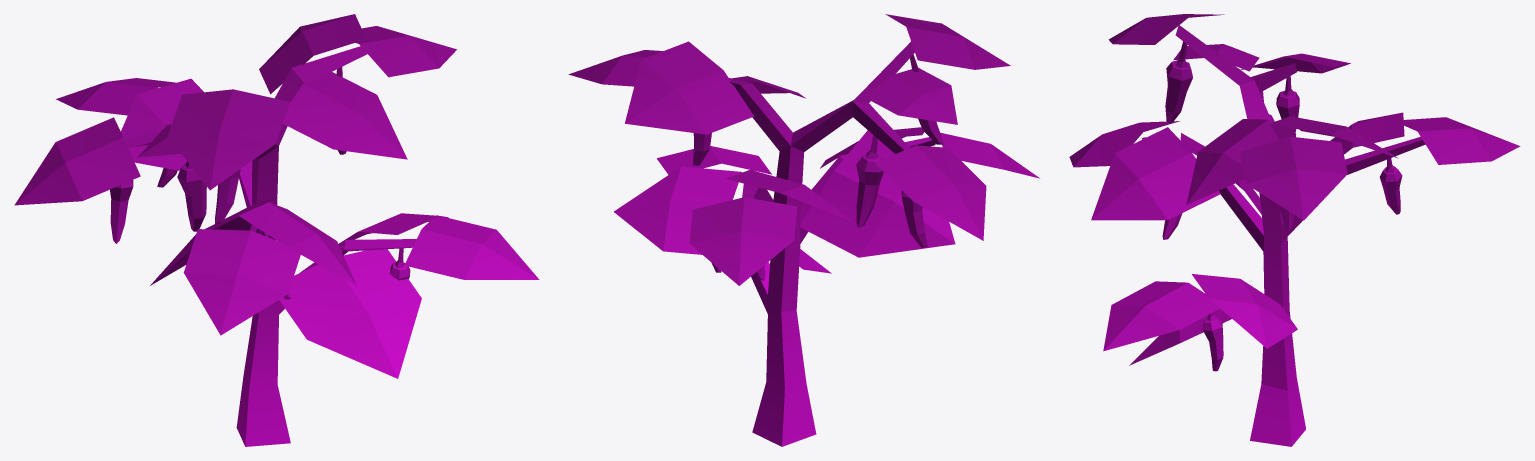
The model's file is SM_Prop_Plant_Bush_03_Chilli.fbx.
The picture shows the model from 3 angles, left to right: view 1: azimuth 30°, elevation 25°; view 2: azimuth 150°, elevation 25°; view 3: azimuth 270°, elevation 25°; orthographic projection. The views are drawn at different scales.
Visible parts, largest first — view 1: SM_Prop_Plant_Bush_03_Chilli; view 2: SM_Prop_Plant_Bush_03_Chilli; view 3: SM_Prop_Plant_Bush_03_Chilli.
Part boxes in pixels (x1,y1,x2,y2): SM_Prop_Plant_Bush_03_Chilli: (14,14,539,446); SM_Prop_Plant_Bush_03_Chilli: (568,14,1039,446); SM_Prop_Plant_Bush_03_Chilli: (1069,14,1520,446).
Bounding box in the file's own units: 106 × 93.45 × 100.
